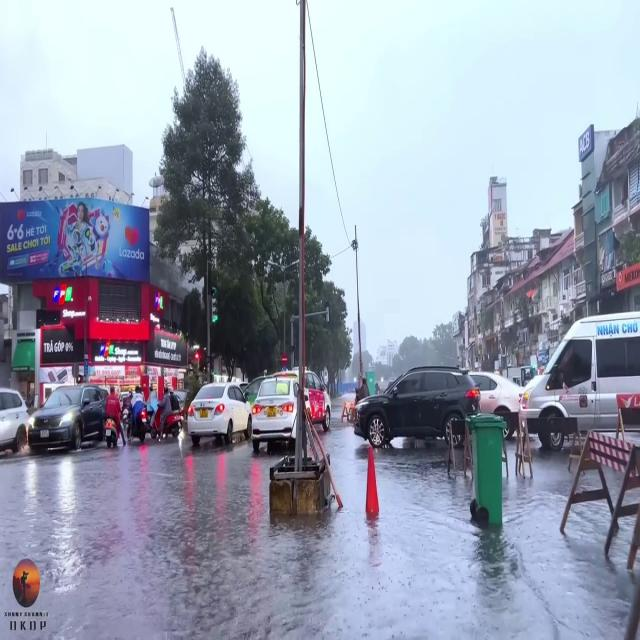bien_vang: (266, 407, 276, 418), (200, 408, 208, 418)
